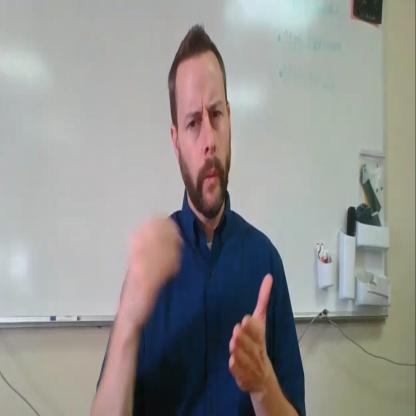Expensive: (116, 209, 288, 416)
